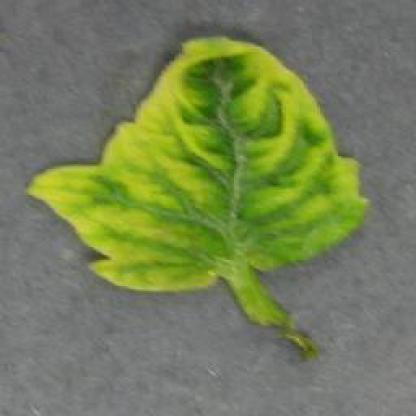bad leaf: (26, 26, 380, 372)
